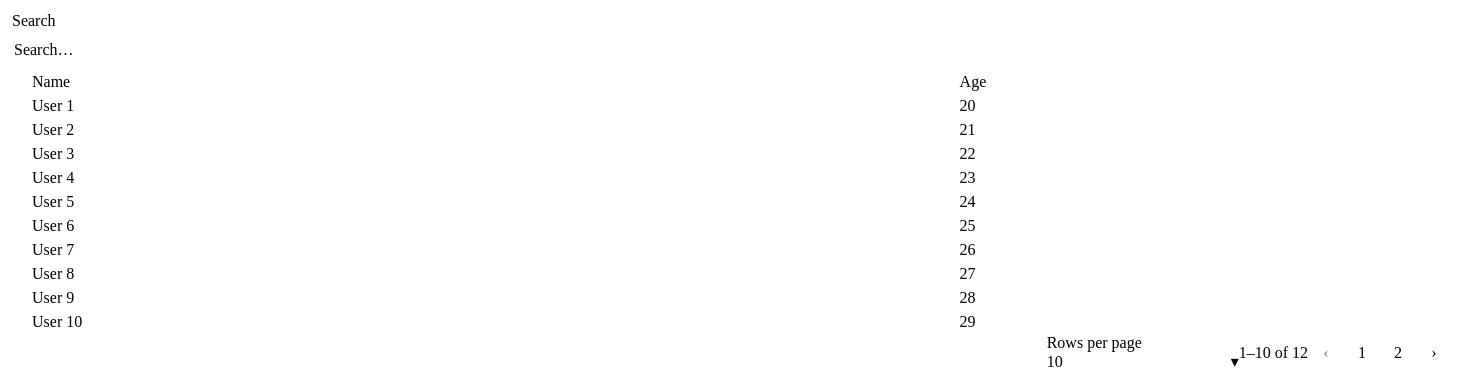
Test: paginates via the Pagination control
Check: the text "User 11" is not shown
Step 1. Click the button named "Go to page 2" → (1398, 352), box [1380, 334, 1416, 370]
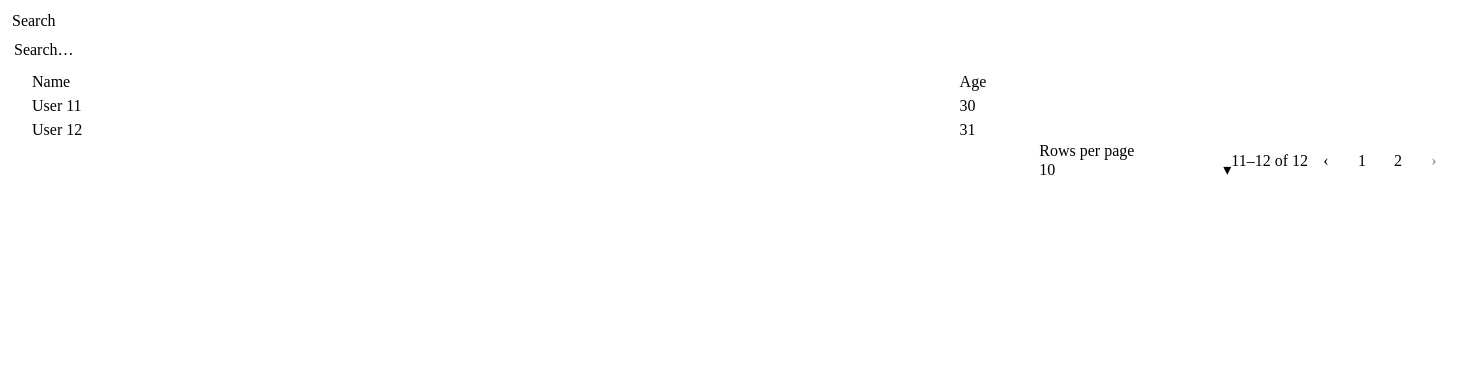
Check: the text "User 11" is shown, box [32, 94, 960, 118]
Check: the text "User 12" is shown, box [32, 118, 960, 142]
